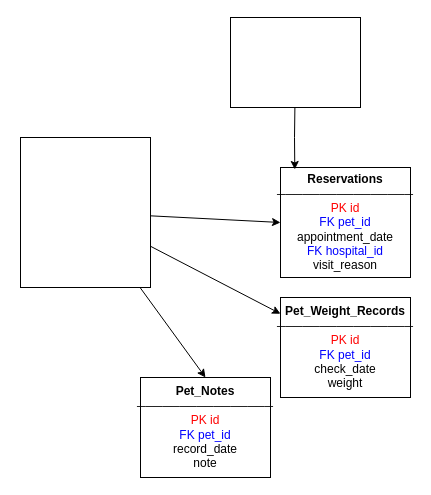
Some shapes in this 431 by 495 pixel diagram are drawn without their labels. Each missing label, with the centre of its shape:
Hospitals ──────────────── PK id hospital_name: pixel 295 62
Pets ──────────────── PK id name pet_type custom_pet_type age gender birthday: pixel 85 212
